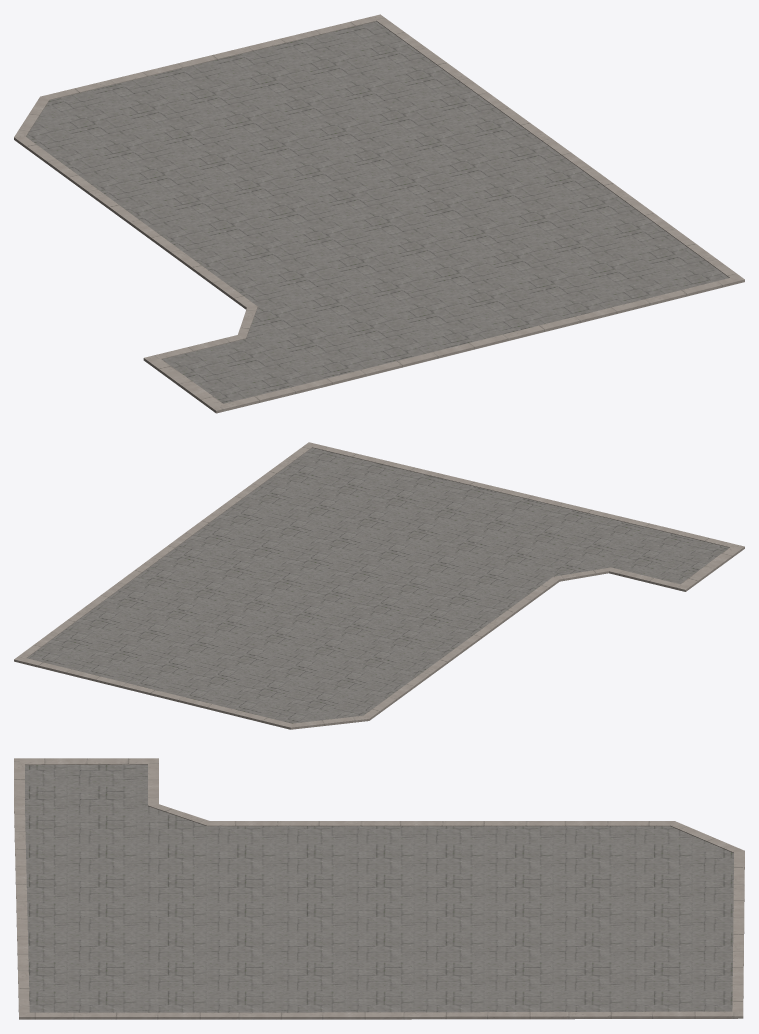
The model's file is TownGroundTile_J.fbx.
3 renders of one model, top to bottom at view 1: azimuth 30°, elevation 25°; view 2: azimuth 150°, elevation 25°; view 3: azimuth 270°, elevation 25°, orthographic. The views are drawn at different scales.
Visible parts, largest first — view 1: TownGroundTile_J; view 2: TownGroundTile_J; view 3: TownGroundTile_J.
Part boxes in pixels (x1,y1,x2,y2): TownGroundTile_J: (14,14,744,413); TownGroundTile_J: (14,442,744,729); TownGroundTile_J: (14,758,744,1019).
Bounding box in the file's own units: 3909 × 18.31 × 4666.
2 materials, 2 textured.
